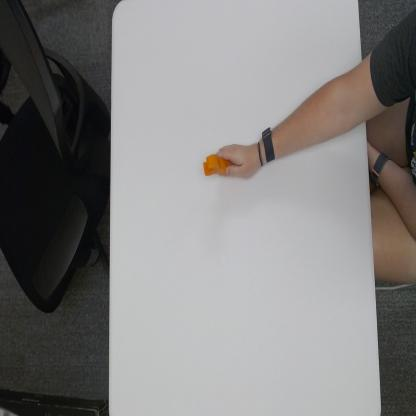Hand: (218, 139, 259, 184)
Screwdriver: (202, 147, 231, 182)
